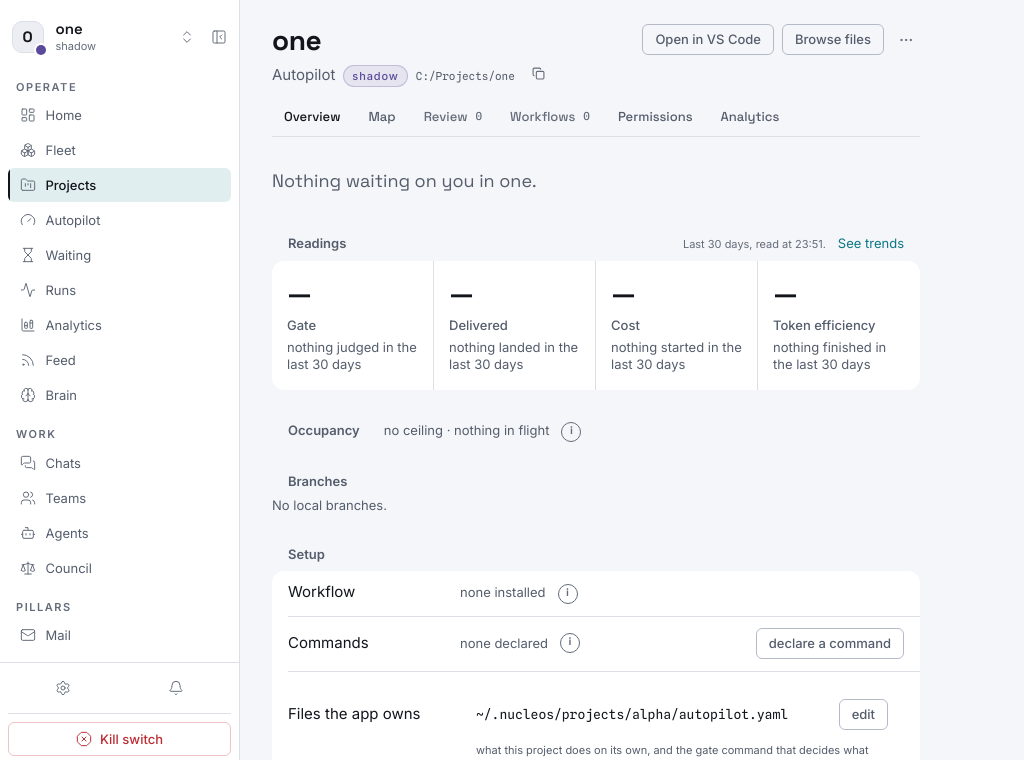
Test case: leaving the roster, from inside the project › takes the control away while the roster is stale
Press the mouse on the button named "More actions": (906, 40) top-left (892, 26), bottom-right (920, 54)
Click the button named "More actions": click(906, 40) top-left (892, 26), bottom-right (920, 54)
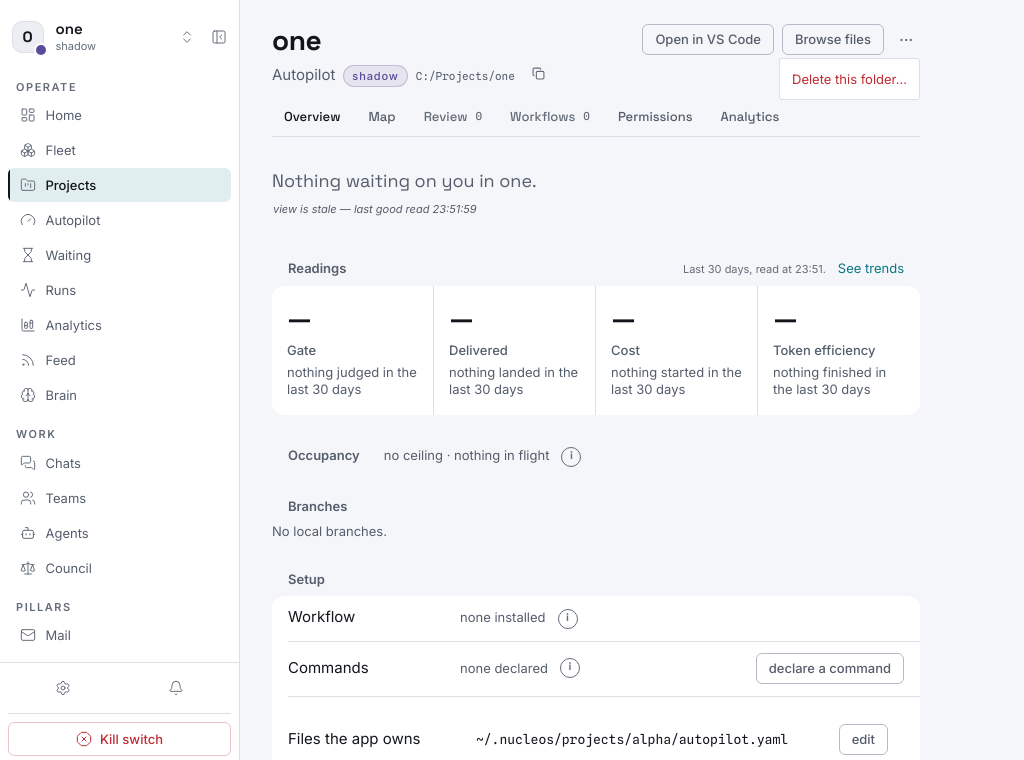
Check: the number of menu items "Delete this folder…" is 1, box top-left (792, 71), bottom-right (907, 87)
